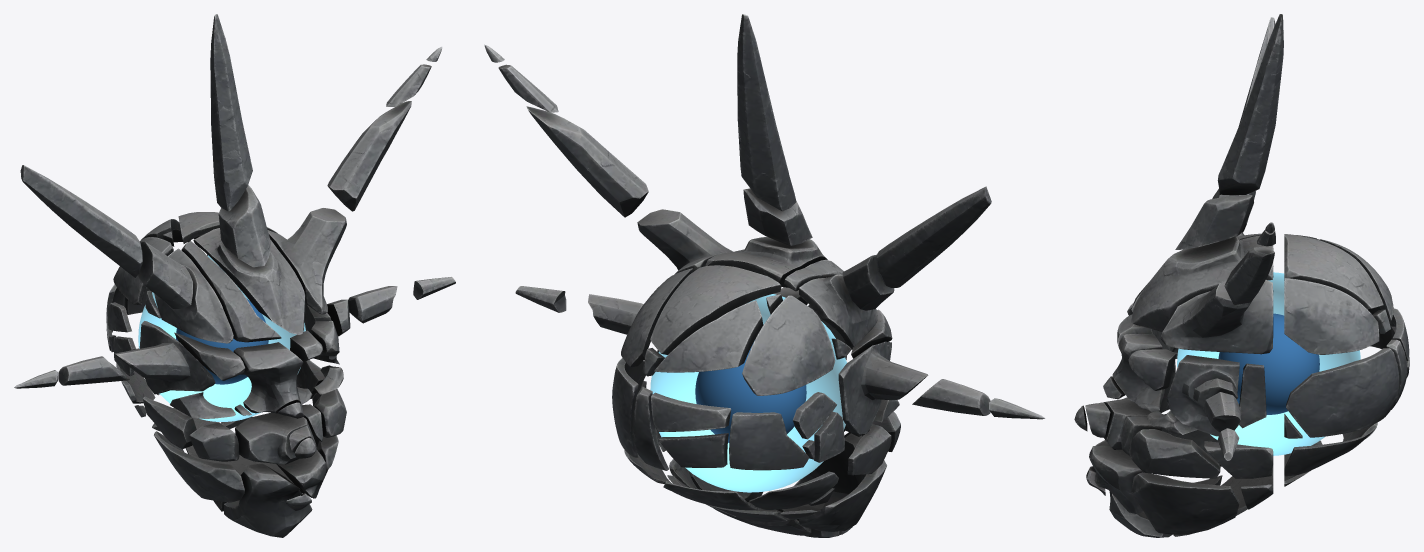
File: Archmother_Weak.glb
3 renders of one model, left to right at view 1: azimuth 30°, elevation 25°; view 2: azimuth 150°, elevation 25°; view 3: azimuth 270°, elevation 25°, orthographic. The views are drawn at different scales.
Parts seen in each view (by area): view 1: models\npc\core_sapphire\core_sapphire.vmdl_c.core_sapphire_ (×2); view 2: models\npc\core_sapphire\core_sapphire.vmdl_c.core_sapphire_ (×2); view 3: models\npc\core_sapphire\core_sapphire.vmdl_c.core_sapphire_ (×2).
Boxes of the visible parts, box(x1,y1,x2,y2) form: models\npc\core_sapphire\core_sapphire.vmdl_c.core_sapphire_ (×2): box(14, 14, 455, 537); models\npc\core_sapphire\core_sapphire.vmdl_c.core_sapphire_ (×2): box(484, 14, 1044, 537); models\npc\core_sapphire\core_sapphire.vmdl_c.core_sapphire_ (×2): box(1074, 14, 1409, 537).
Size of the model in its own units: 12.79 by 12.86 by 7.56.
Materials: 3 (1 with a texture image).
